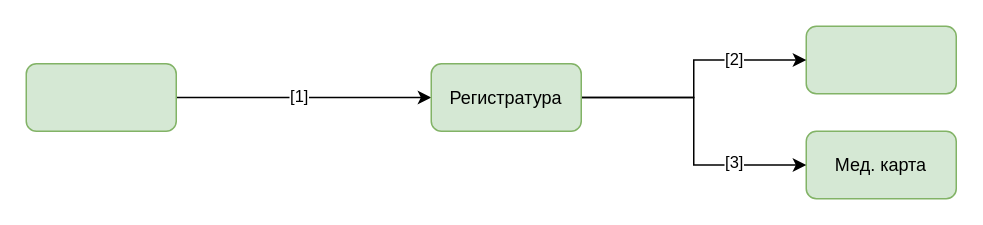
The diagram is 983 pixels wide and 225 high, and some of its shapes have lost their labels. Each missing label, with the centre of its shape:
"Excel" goes at (880,59).
"Пациент" goes at (100,96).
